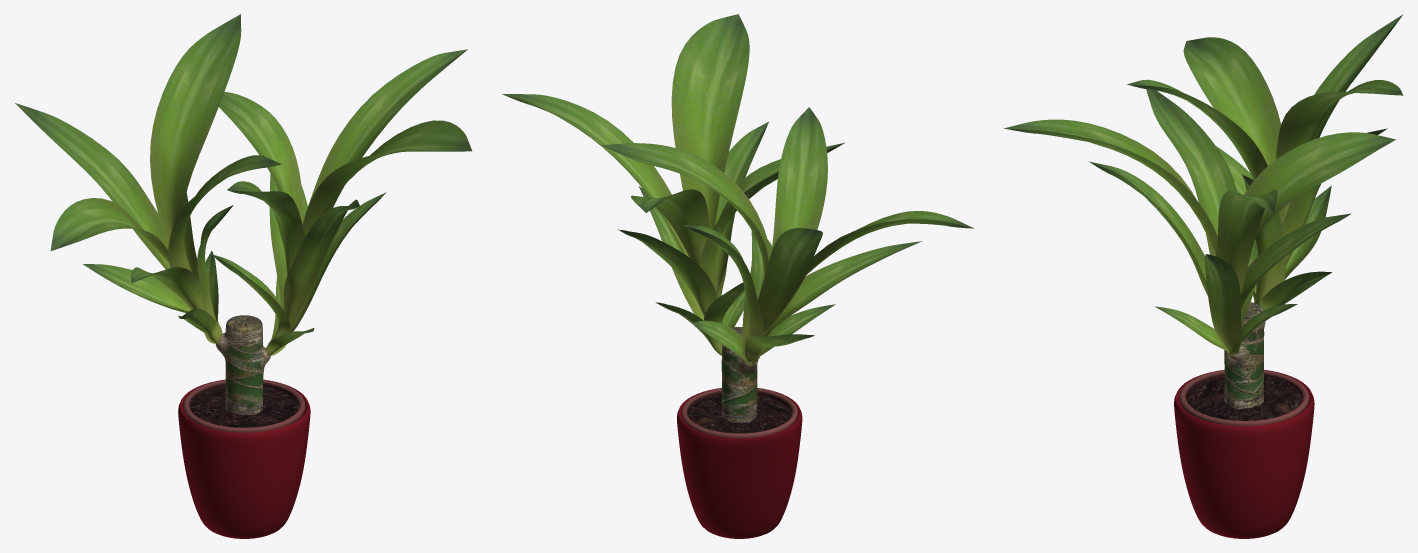
File: plant.obj
The picture shows the model from 3 angles, left to right: view 1: azimuth 30°, elevation 25°; view 2: azimuth 150°, elevation 25°; view 3: azimuth 270°, elevation 25°; orthographic projection. The views are drawn at different scales.
Visible parts, largest first — view 1: indoor_plant_02; view 2: indoor_plant_02; view 3: indoor_plant_02.
Boxes of the visible parts, x1,y1,x2,y2 form: indoor_plant_02: [15, 14, 471, 538]; indoor_plant_02: [502, 14, 974, 538]; indoor_plant_02: [1003, 14, 1403, 538].
Bounding box in the file's own units: 6.82 × 6.22 × 4.86.
Materials: 6 (6 with a texture image).
